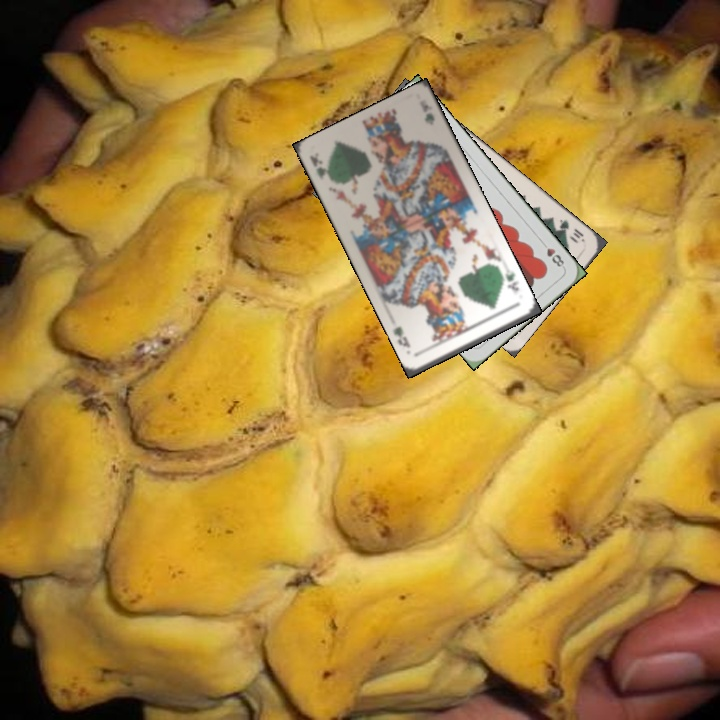G10: (555, 215, 587, 244)
GK: (306, 149, 331, 182), (501, 266, 521, 294)
H8: (537, 237, 567, 271)
